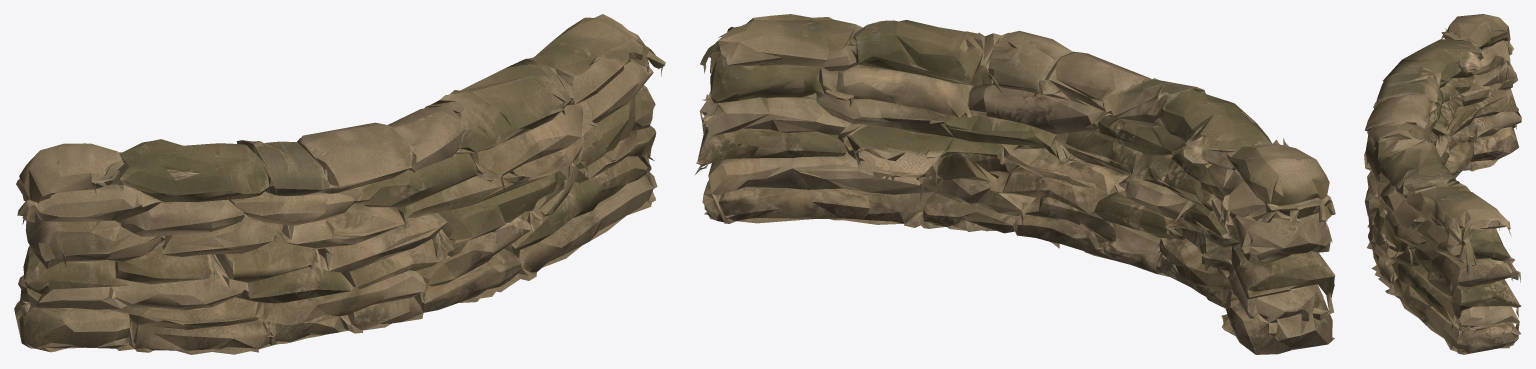
Rendered from sandbags.glb.
3 views of the same model, side by side, from view 1: azimuth 30°, elevation 25°; view 2: azimuth 150°, elevation 25°; view 3: azimuth 270°, elevation 25° (orthographic). The views are drawn at different scales.
Parts seen in each view (by area): view 1: Mesh_0; view 2: Mesh_0; view 3: Mesh_0.
Boxes of the visible parts, left/top/right/bottom form: Mesh_0: left=14, top=14, right=665, bottom=354; Mesh_0: left=694, top=14, right=1335, bottom=354; Mesh_0: left=1364, top=14, right=1521, bottom=354.
Size of the model in its own units: 1.9 by 0.5229 by 0.5567.
Materials: 1 (1 with a texture image).
